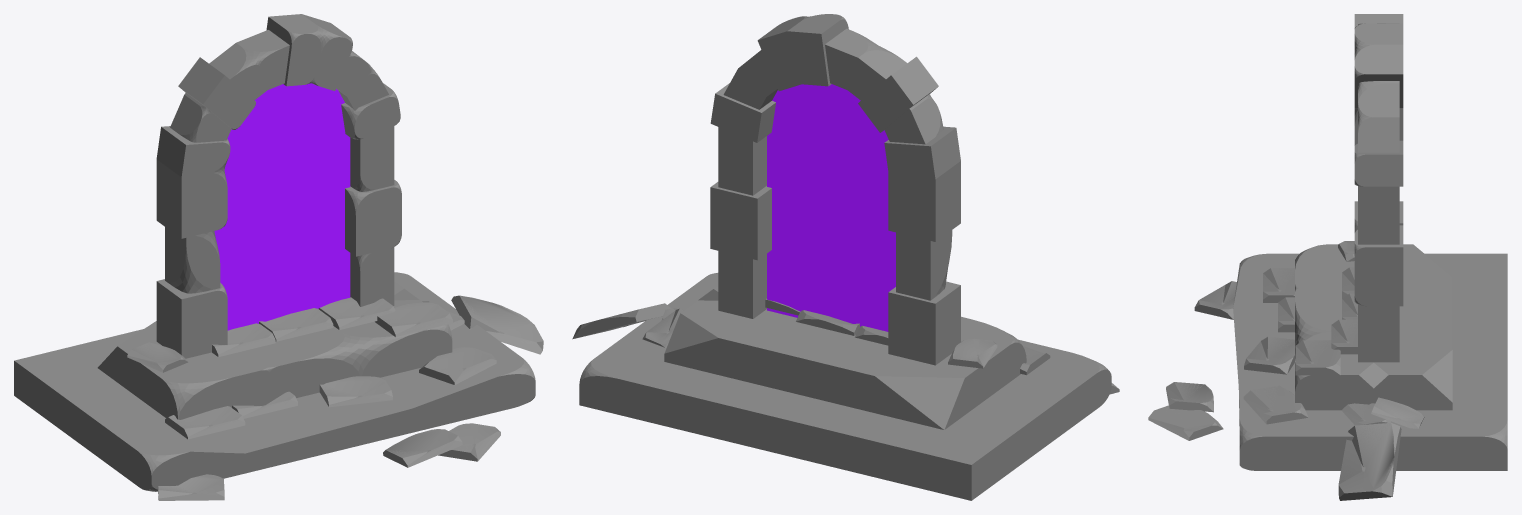
Rendered from portal.glb.
The picture shows the model from 3 angles, left to right: view 1: azimuth 30°, elevation 25°; view 2: azimuth 150°, elevation 25°; view 3: azimuth 270°, elevation 25°; orthographic projection. The views are drawn at different scales.
Visible parts, largest first — view 1: Fläche.004, Fläche.003, Fläche.001, Fläche.002, Fläche; view 2: Fläche.004, Fläche.003, Fläche.001, Fläche.002, Fläche; view 3: Fläche.004, Fläche.002, Fläche.001, Fläche.
Boxes of the visible parts, bbox=[...] form: Fläche.004: bbox=[14, 272, 543, 500]; Fläche.003: bbox=[214, 83, 350, 330]; Fläche.001: bbox=[156, 14, 401, 358]; Fläche.002: bbox=[97, 281, 452, 419]; Fläche: bbox=[165, 30, 394, 306]; Fläche.004: bbox=[572, 273, 1119, 500]; Fläche.003: bbox=[767, 84, 895, 331]; Fläche.001: bbox=[710, 14, 960, 365]; Fläche.002: bbox=[664, 285, 1026, 429]; Fläche: bbox=[718, 28, 952, 318]; Fläche.004: bbox=[1148, 241, 1507, 500]; Fläche.002: bbox=[1295, 244, 1452, 410]; Fläche.001: bbox=[1354, 14, 1403, 306]; Fläche: bbox=[1358, 23, 1399, 362].
Size of the model in its own units: 6.46 by 5.1 by 4.57.
